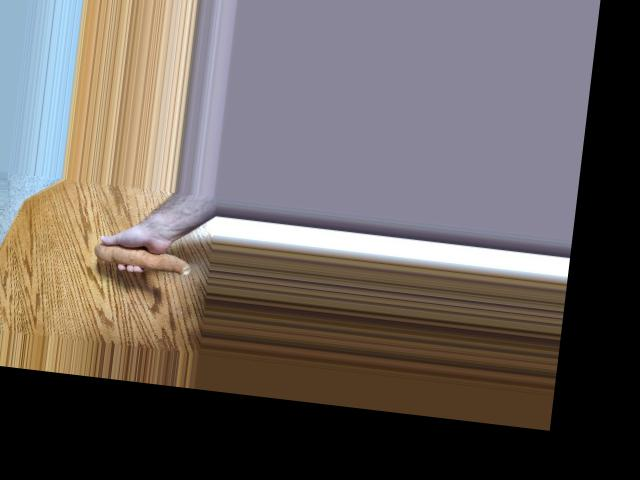sweet_potato: (96, 234, 194, 274)
